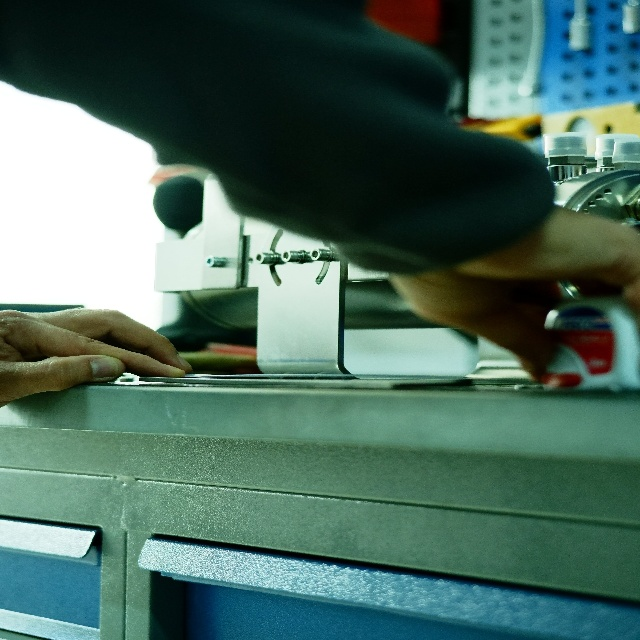Sin_guantes: (383, 191, 640, 370), (0, 304, 196, 407)
